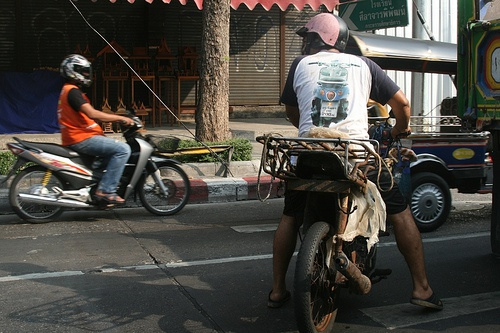non-vehicle: (255, 107, 409, 331), (3, 106, 189, 223)
